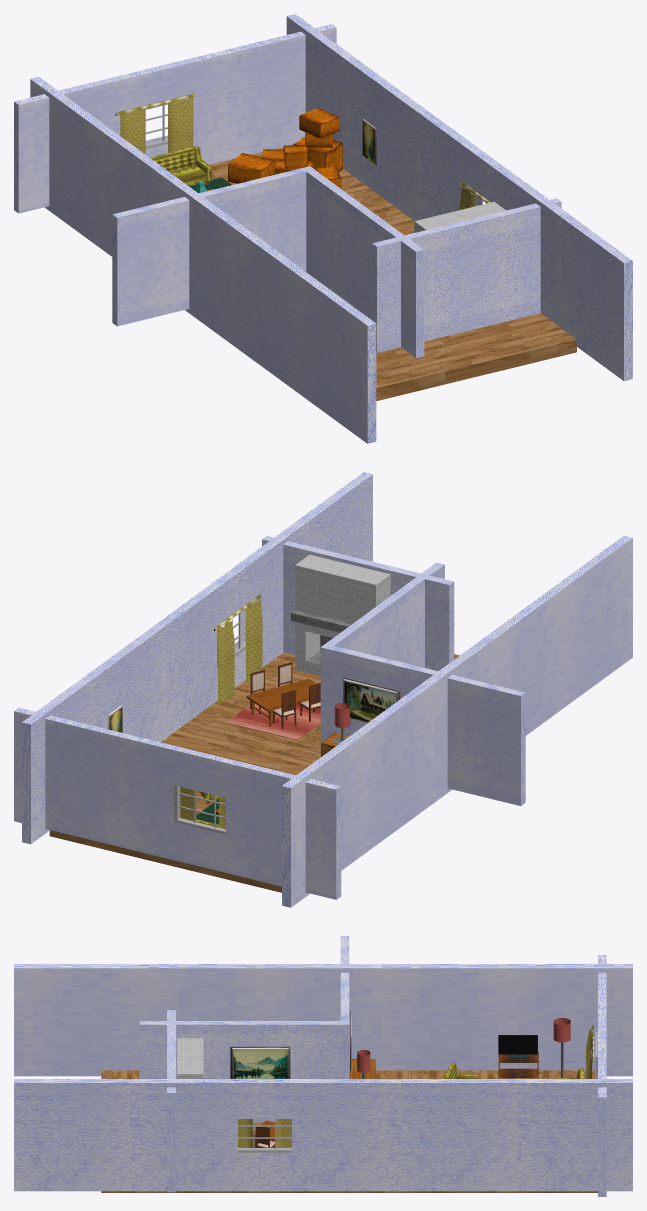
File: salon.glb
3 renders of one model, top to bottom at view 1: azimuth 30°, elevation 25°; view 2: azimuth 150°, elevation 25°; view 3: azimuth 270°, elevation 25°, orthographic. The views are drawn at different scales.
Visible parts, largest first — view 1: Cube.019, Cube.016, Cube.020, Cube.017, Cube.021, Cube.018, Sol.003, curtains.002, Sol.001, sofa.002, carton ferme fragile moyen.001, wall_fireplace.001 (+2 smaller); view 2: Cube.019, Cube.020, Cube.016, Cube.021, wall_fireplace.001, Cube.017, Sol.001, Cube.018, Sol.003, curtains.001, Cube.022, painting.005 (+2 smaller); view 3: Cube.016, Cube.019, Cube.018, Cube.020, painting.004, Sol.001, TV and TV Stand, Cube.017, Cube.021, wall_fireplace.001, Sol.003, curtains.001 (+1 smaller).
Boxes of the visible parts, left/top/right/bottom form: Cube.019: left=30, top=77, right=376, bottom=443; Cube.016: left=286, top=14, right=632, bottom=381; Cube.020: left=14, top=24, right=336, bottom=213; Cube.017: left=372, top=198, right=561, bottom=352; Cube.021: left=112, top=166, right=314, bottom=326; Cube.018: left=306, top=169, right=424, bottom=358; Sol.003: left=376, top=313, right=576, bottom=400; curtains.002: left=115, top=93, right=196, bottom=154; Sol.001: left=210, top=144, right=414, bottom=235; sofa.002: left=150, top=146, right=211, bottom=186; carton ferme fragile moyen.001: left=228, top=153, right=274, bottom=183; wall_fireplace.001: left=414, top=202, right=505, bottom=232; Cube.019: left=282, top=535, right=632, bottom=907; Cube.020: left=14, top=708, right=341, bottom=899; Cube.016: left=22, top=472, right=372, bottom=844; Cube.021: left=320, top=644, right=525, bottom=805; wall_fireplace.001: left=291, top=554, right=390, bottom=676; Cube.017: left=262, top=536, right=454, bottom=671; Sol.001: left=49, top=722, right=320, bottom=892; Cube.018: left=321, top=562, right=444, bottom=667; Sol.003: left=188, top=652, right=459, bottom=754; curtains.001: left=214, top=594, right=262, bottom=703; Cube.022: left=226, top=685, right=320, bottom=739; painting.005: left=343, top=677, right=400, bottom=722; Cube.016: left=14, top=1079, right=632, bottom=1191; Cube.019: left=14, top=964, right=632, bottom=1076; Cube.018: left=139, top=1021, right=348, bottom=1122; Cube.020: left=598, top=955, right=606, bottom=1196; painting.004: left=230, top=1046, right=290, bottom=1078; Sol.001: left=349, top=1070, right=597, bottom=1192; TV and TV Stand: left=498, top=1035, right=538, bottom=1078; Cube.017: left=167, top=1010, right=175, bottom=1192; Cube.021: left=340, top=936, right=349, bottom=1078; wall_fireplace.001: left=177, top=1038, right=210, bottom=1078; Sol.003: left=101, top=1070, right=349, bottom=1192; curtains.001: left=238, top=1119, right=291, bottom=1147.
Bounding box in the file's own units: 14.55 × 4.79 × 23.63.
31 materials, 27 textured.
